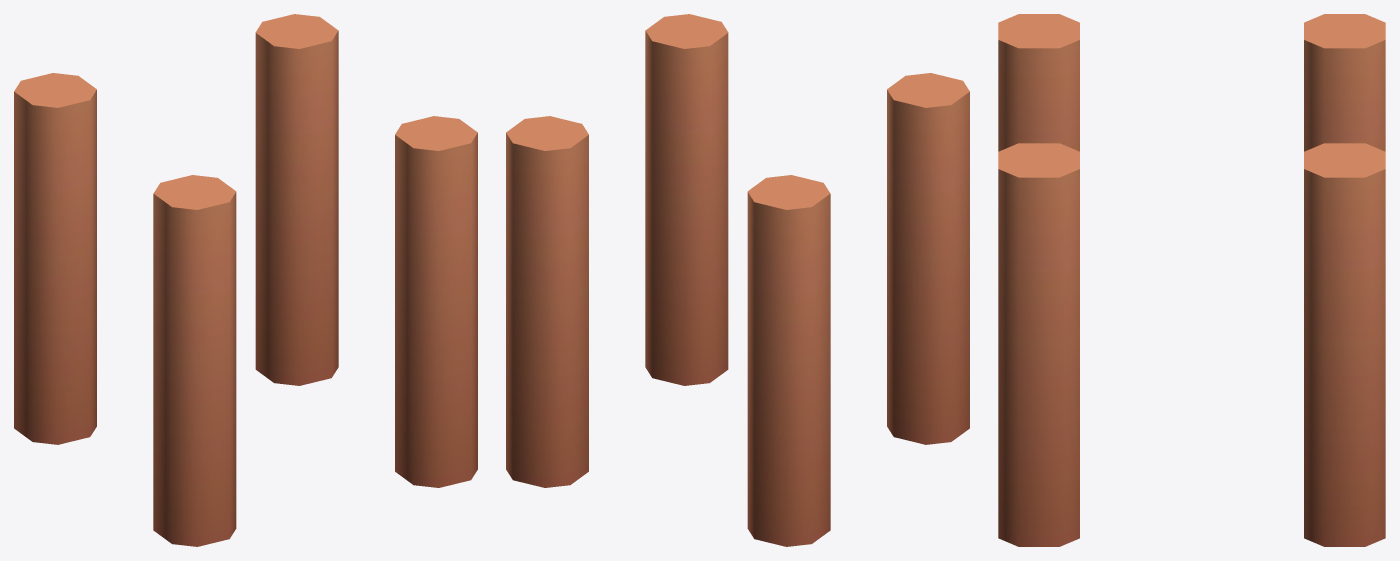
File: supports.glb
3 renders of one model, left to right at view 1: azimuth 30°, elevation 25°; view 2: azimuth 150°, elevation 25°; view 3: azimuth 270°, elevation 25°, orthographic. The views are drawn at different scales.
Visible parts, largest first — view 1: supports; view 2: supports; view 3: supports.
Boxes of the visible parts, x1=… form: supports: x1=14, y1=14, x2=477, y2=546; supports: x1=506, y1=14, x2=969, y2=546; supports: x1=998, y1=14, x2=1385, y2=546.
Bounding box in the file's own units: 0.9499 × 1 × 0.9499.
1 material, 1 textured.
